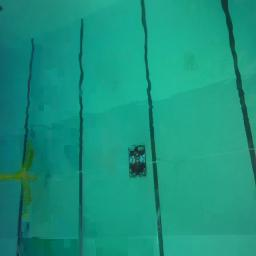front: (128, 159, 146, 177)
